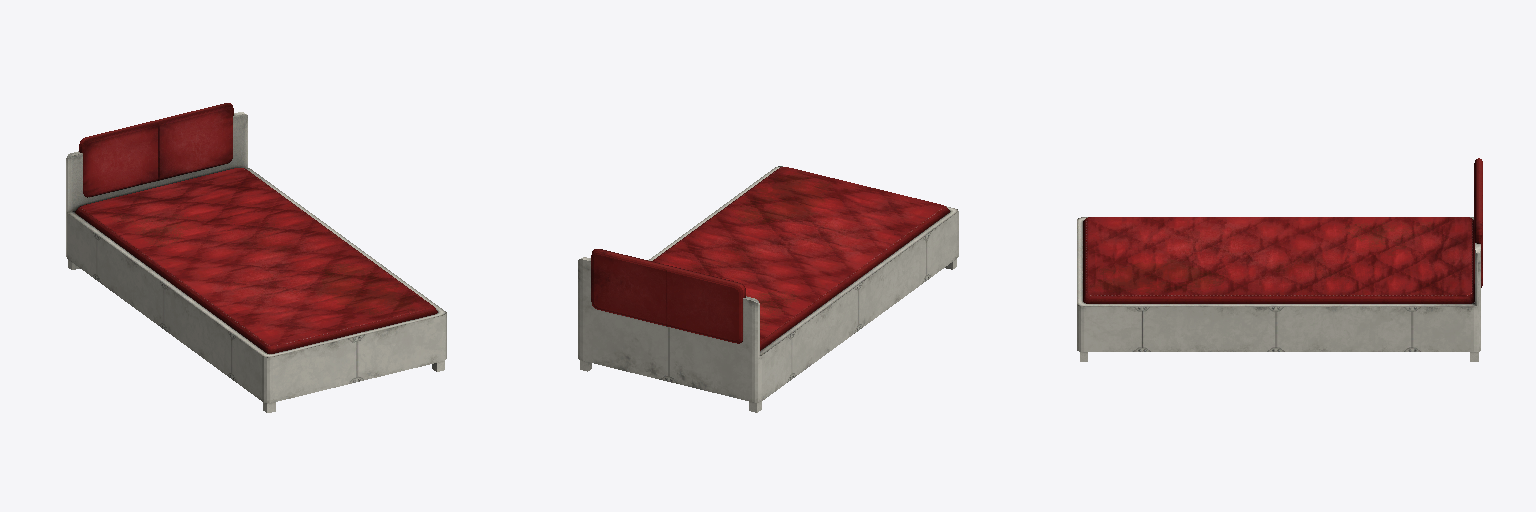
3 views of the same model, side by side, from view 1: azimuth 30°, elevation 25°; view 2: azimuth 150°, elevation 25°; view 3: azimuth 270°, elevation 25° (orthographic).
Parts seen in each view (by area): view 1: lozko; view 2: lozko; view 3: lozko.
Boxes of the visible parts, x1=… form: lozko: x1=66, y1=103, x2=446, y2=412; lozko: x1=578, y1=166, x2=958, y2=412; lozko: x1=1077, y1=158, x2=1482, y2=361.
Bounding box in the file's own units: 104 × 68.14 × 201.
1 materials, 1 textured.